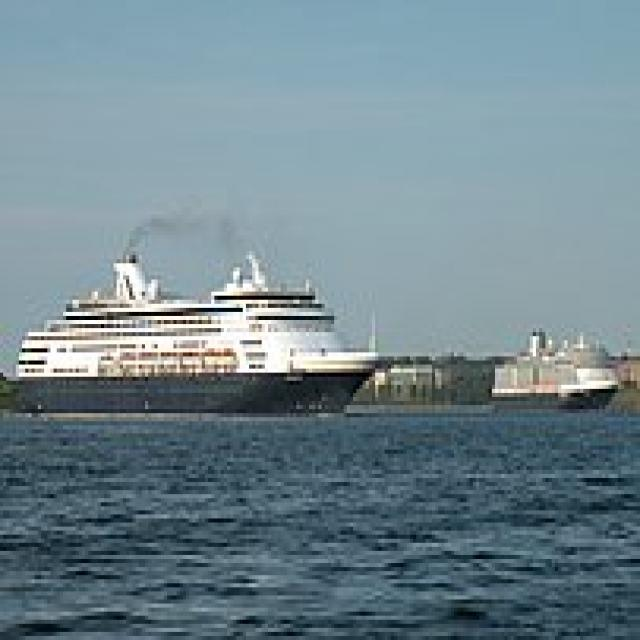Ship: (8, 240, 405, 423)
